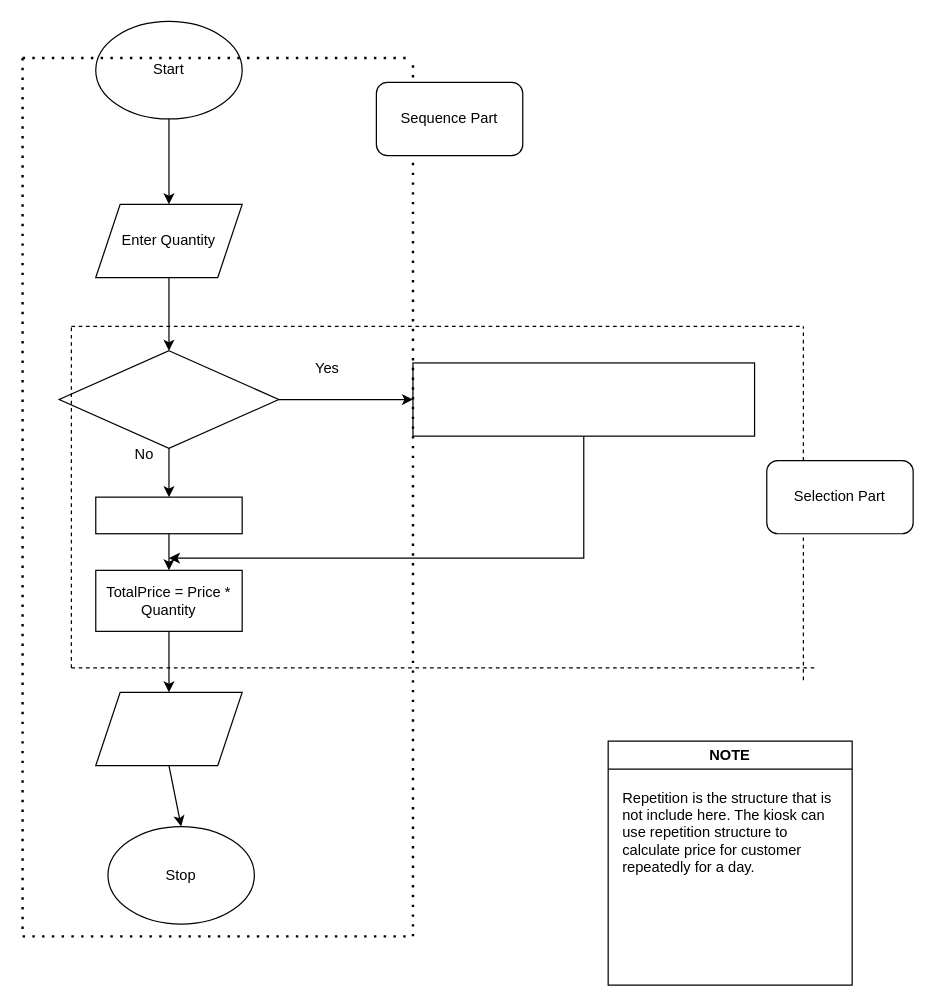
Some shapes in this 935 by 1007 pixel diagram are drawn without their labels. The centre of each missing label's shape, as x and y in pixels:
"Display TotalPrice" goes at (168,728).
"Is a member or not?" goes at (168,399).
"Price = 4.50 - ( 4.50 * 0.10)" goes at (583,399).
"Price = RM4.50" goes at (168,515).
